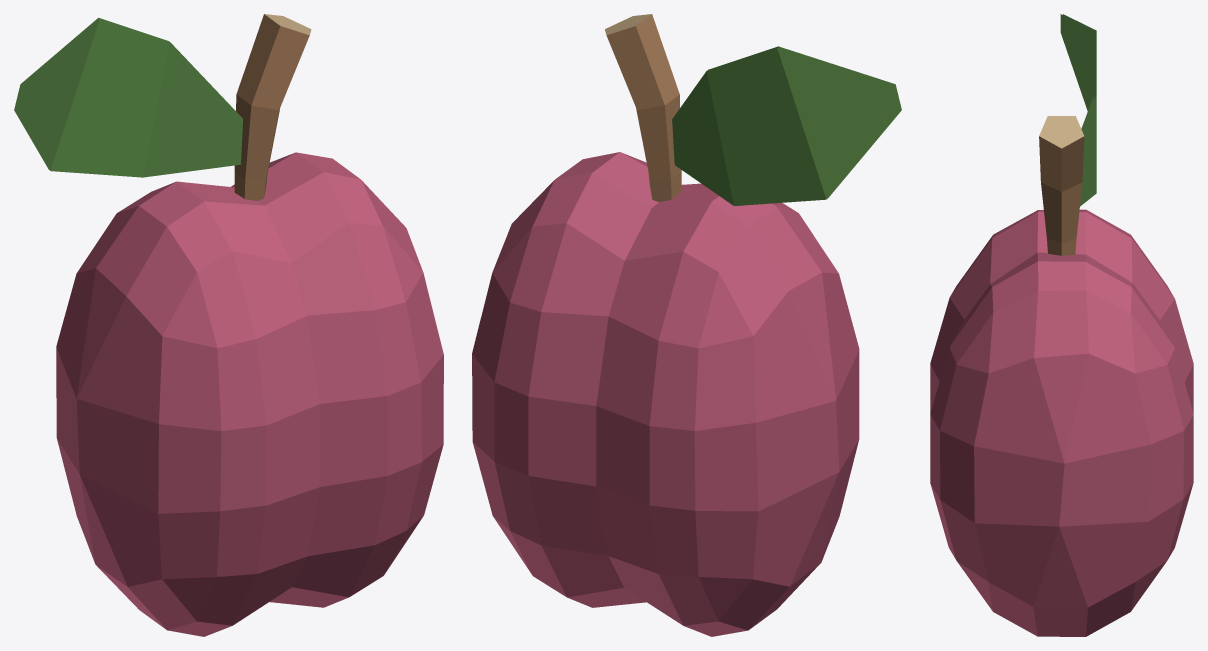
The model's file is Plum.fbx.
The picture shows the model from 3 angles, left to right: view 1: azimuth 30°, elevation 25°; view 2: azimuth 150°, elevation 25°; view 3: azimuth 270°, elevation 25°; orthographic projection. The views are drawn at different scales.
Parts seen in each view (by area): view 1: Plum; view 2: Plum; view 3: Plum.
Boxes of the visible parts, x1=… form: Plum: x1=14, y1=14, x2=443, y2=636; Plum: x1=472, y1=14, x2=901, y2=636; Plum: x1=930, y1=14, x2=1193, y2=636.
Size of the model in its own units: 0.3498 by 0.5023 by 0.2288.
